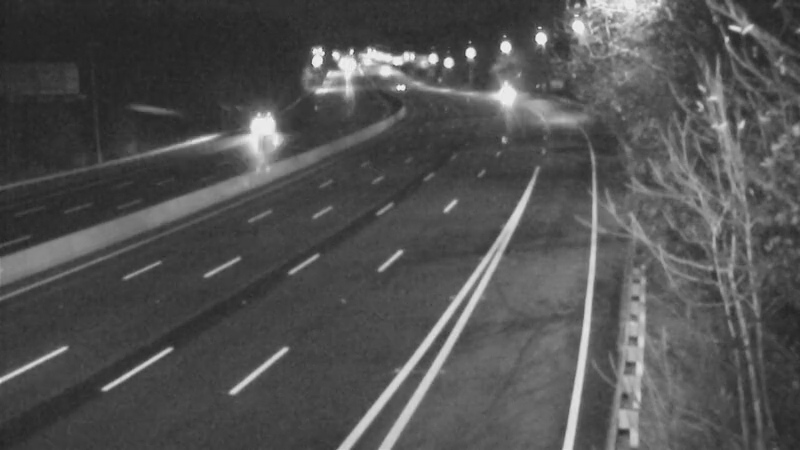vehicle: (373, 57, 423, 107), (476, 68, 526, 118), (229, 103, 279, 153)
